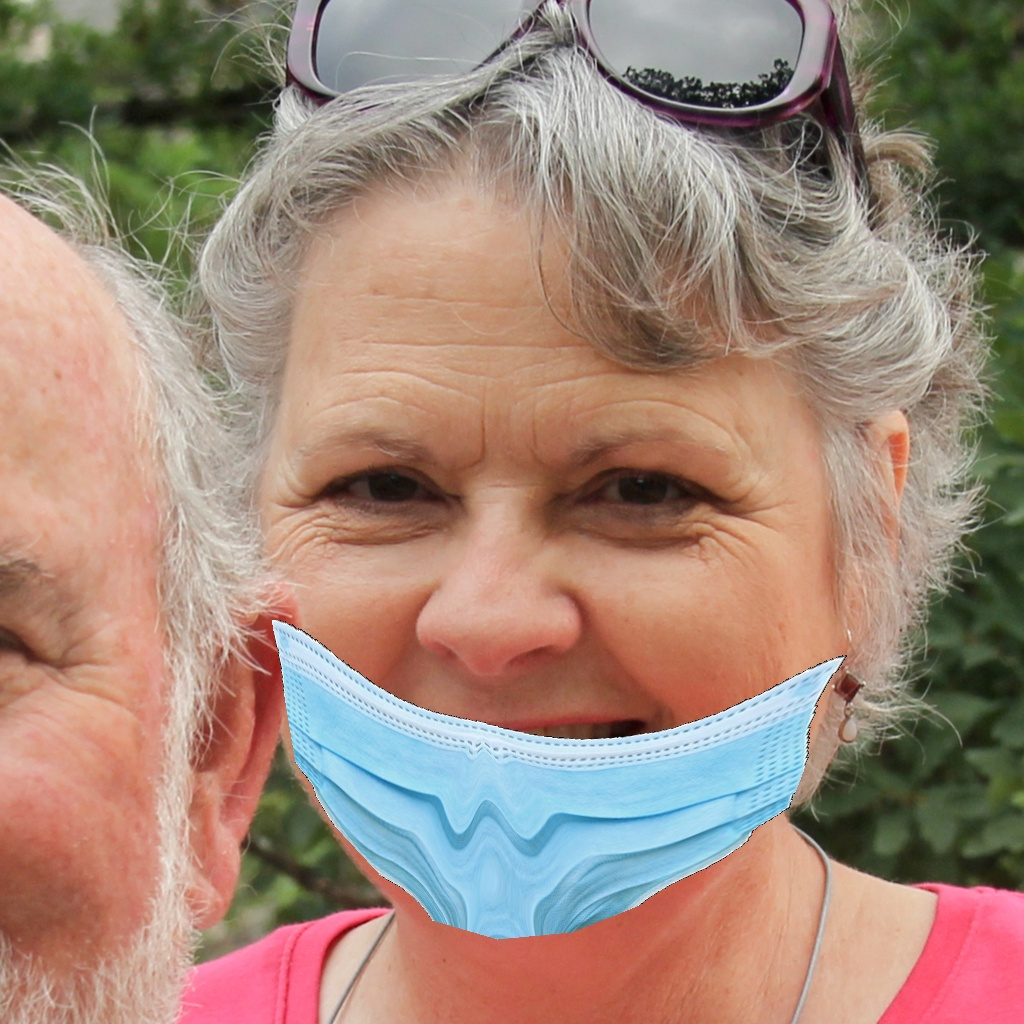mask_weared_incorrect: (250, 413, 863, 946)
